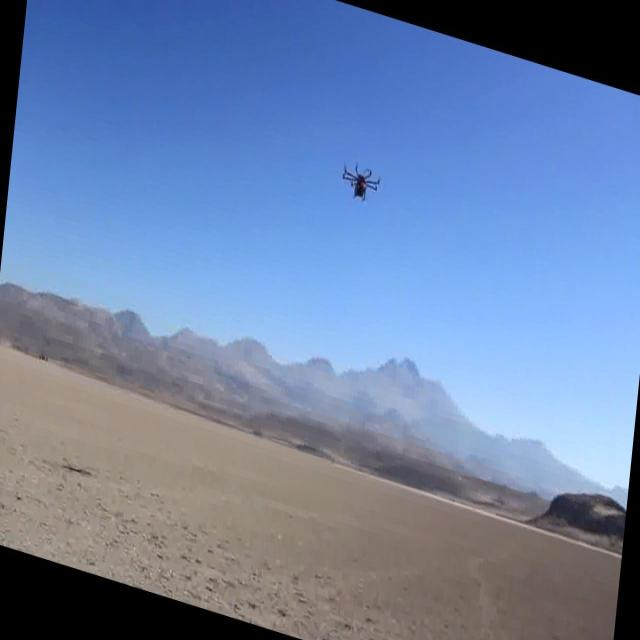drone: (339, 150, 384, 211)
